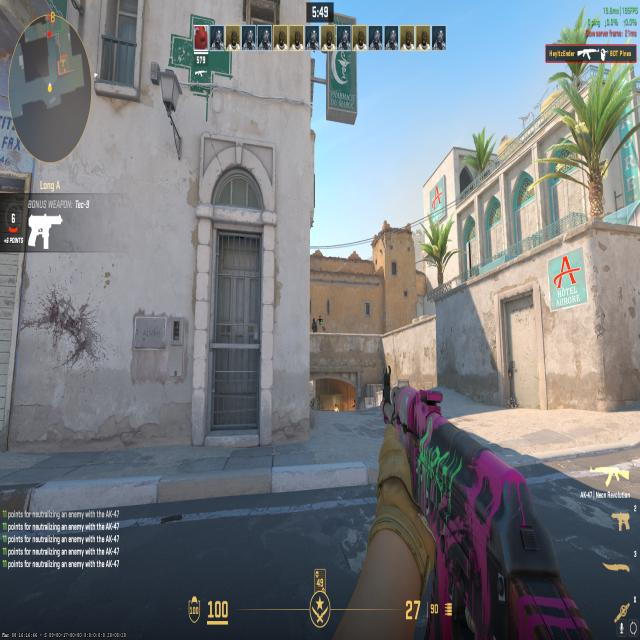ct: (310, 314, 318, 333)
t: (332, 401, 340, 414)
